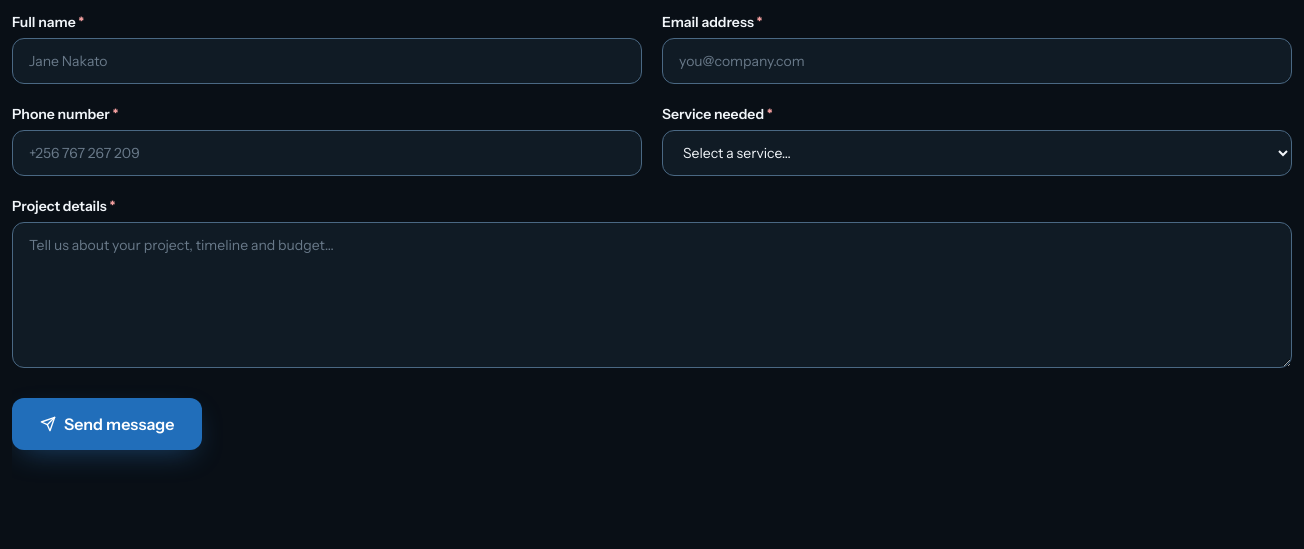
Test: ContactForm validation › rejects a malformed email address
The image size is (1304, 549).
In the field labelled "Email address *": coordinates (977, 61) [662,38,1292,84], type "not-an-email"
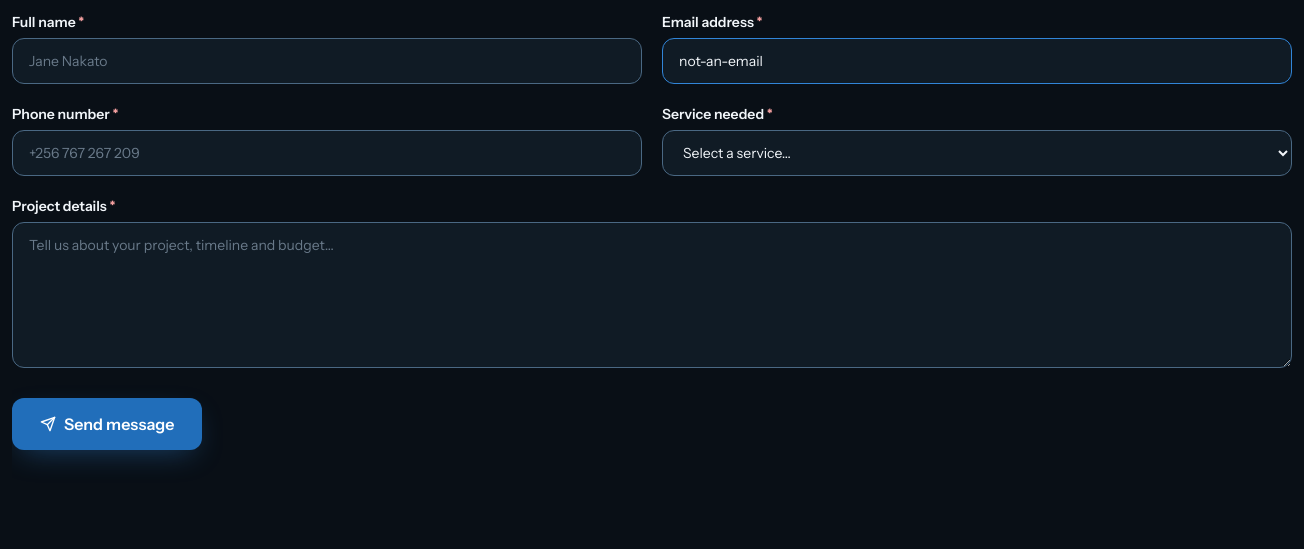
Click the button "Send message": coordinates (107, 424) [12,398,202,450]
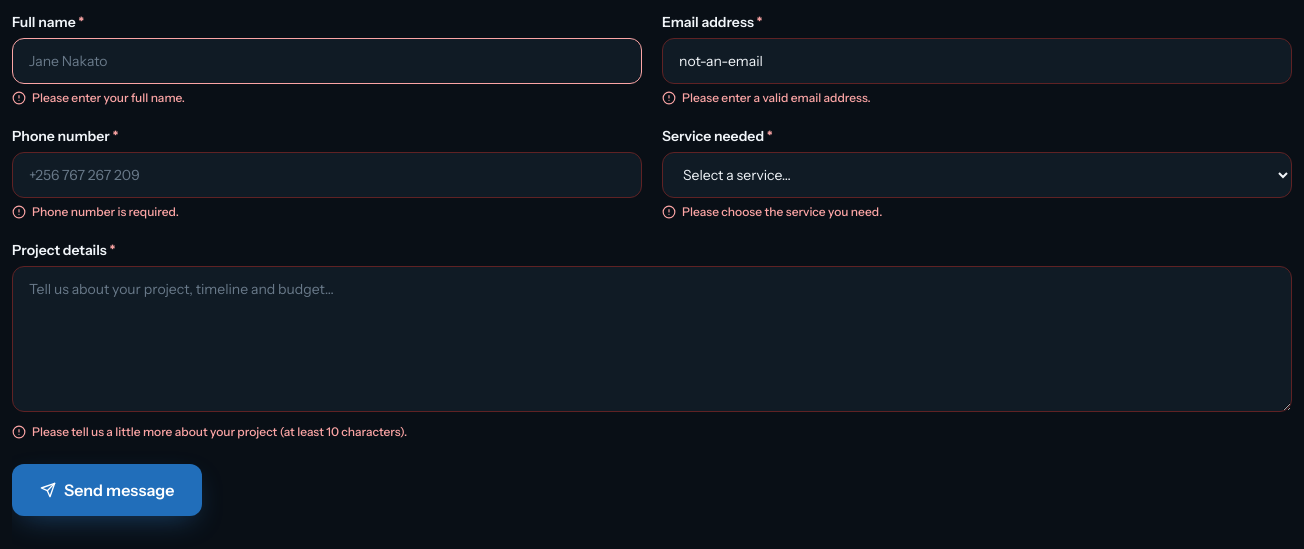
Check: the text "Please enter a valid email address." is shown, box [662,90,871,105]
